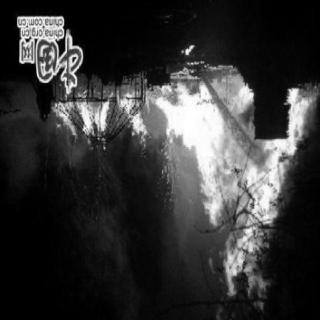Fire: (155, 45, 303, 298), (48, 87, 156, 163)
